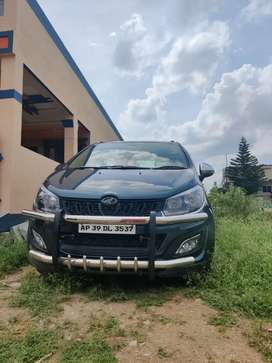AP39DL3537: (78, 223, 136, 234)
